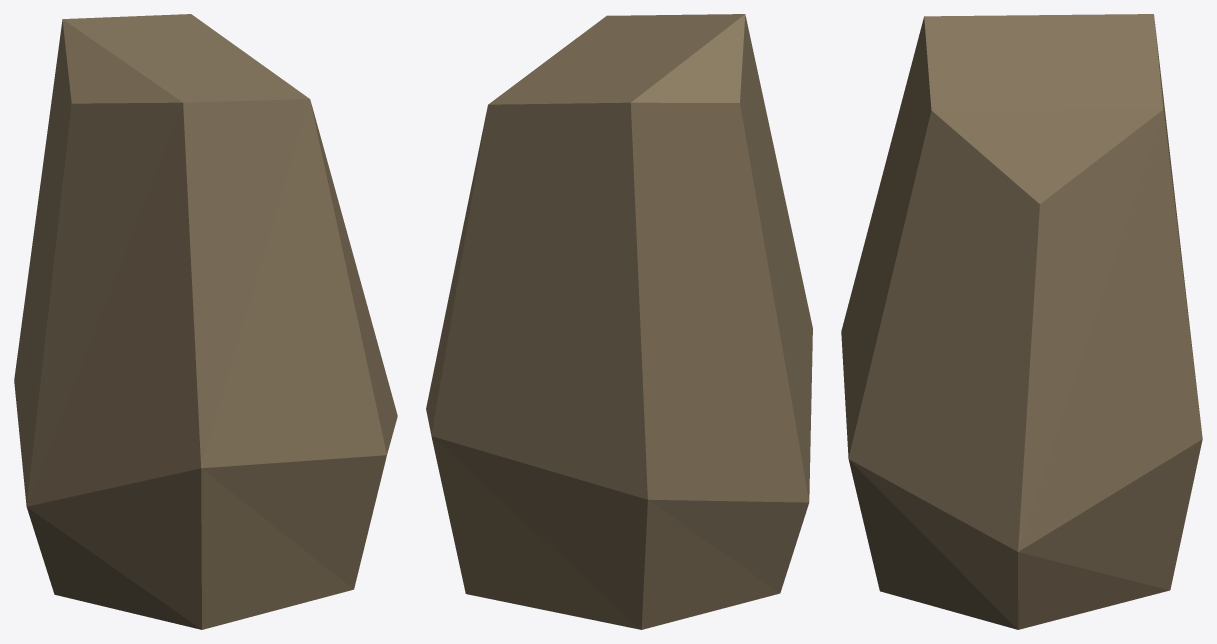
The model's file is TB_D_Env_RockC_C.FBX.
3 renders of one model, left to right at view 1: azimuth 30°, elevation 25°; view 2: azimuth 150°, elevation 25°; view 3: azimuth 270°, elevation 25°, orthographic. The views are drawn at different scales.
Parts seen in each view (by area): view 1: TB_D_Env_RockC_C; view 2: TB_D_Env_RockC_C; view 3: TB_D_Env_RockC_C.
Boxes of the visible parts, bbox=[...] form: TB_D_Env_RockC_C: bbox=[14, 14, 397, 629]; TB_D_Env_RockC_C: bbox=[426, 14, 812, 629]; TB_D_Env_RockC_C: bbox=[841, 14, 1202, 629].
Size of the model in its own units: 1.43 by 1.87 by 1.22.
